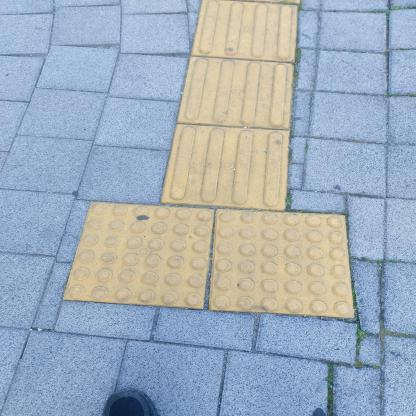podotacti: (50, 1, 370, 329)
